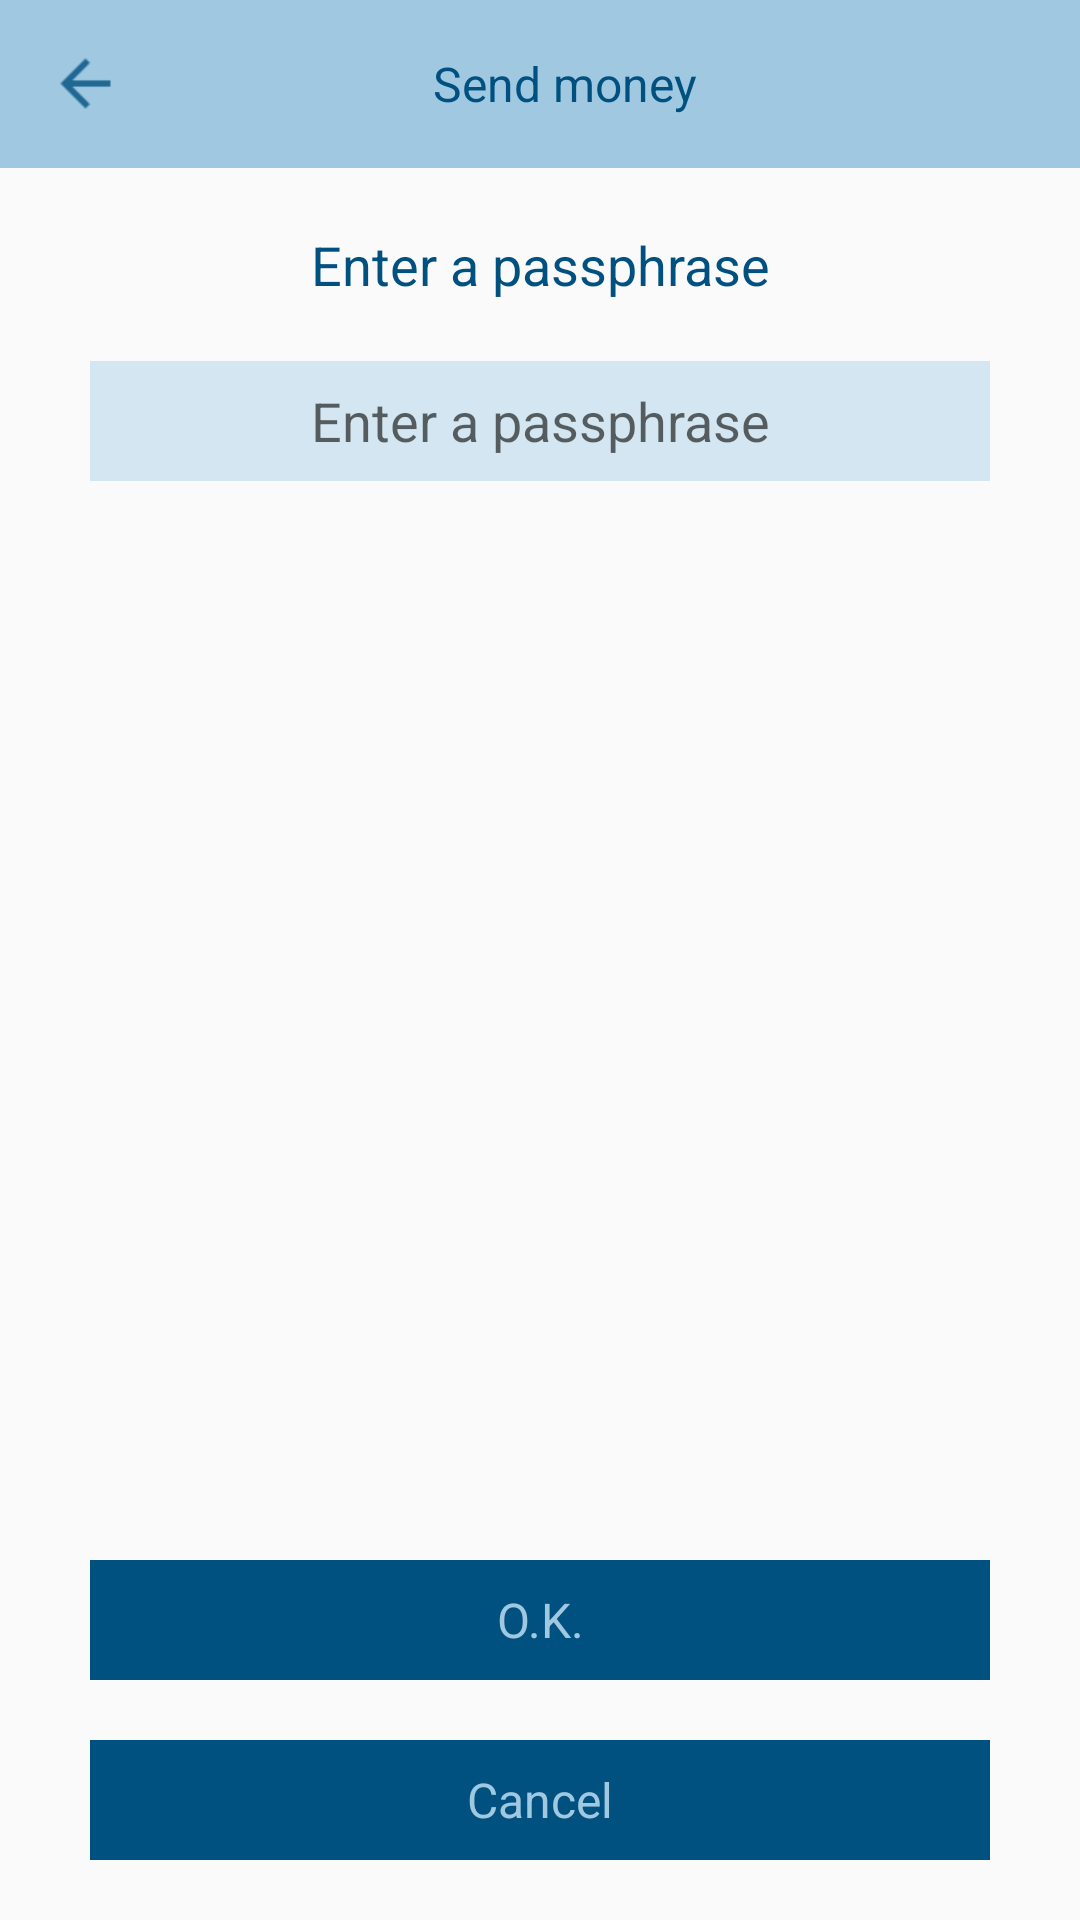

Icon click points for this 1080w x 1920h phone screenshot, format point (x, y):
arrow back: point (85, 83)
